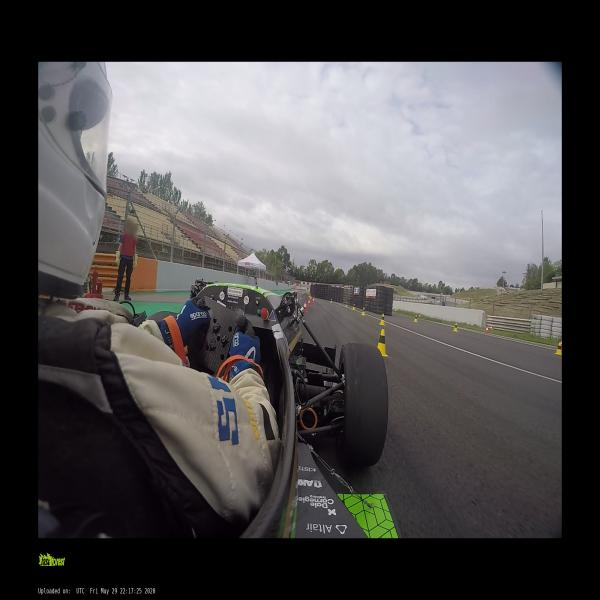orange_cone: (484, 326, 489, 334), (307, 299, 311, 308), (304, 302, 307, 312), (312, 298, 315, 304), (309, 296, 312, 302)
yellow_cone: (379, 330, 388, 356), (554, 342, 562, 356), (379, 314, 386, 326), (452, 323, 458, 333), (362, 307, 366, 315), (413, 315, 417, 322), (352, 304, 355, 310), (329, 298, 332, 304), (345, 301, 347, 307)
